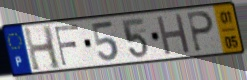5: (120, 16, 152, 60), (90, 19, 121, 63)
F: (53, 23, 81, 68)
H: (21, 24, 63, 73), (155, 12, 192, 58)
P: (185, 10, 216, 54)
